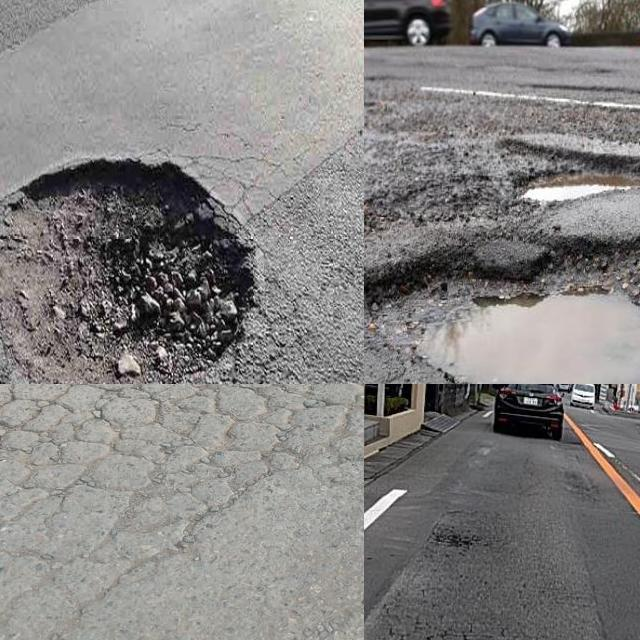Lubang: (0, 159, 253, 384), (364, 239, 640, 384), (507, 151, 640, 206)
Retak Buaya: (0, 384, 364, 585)
